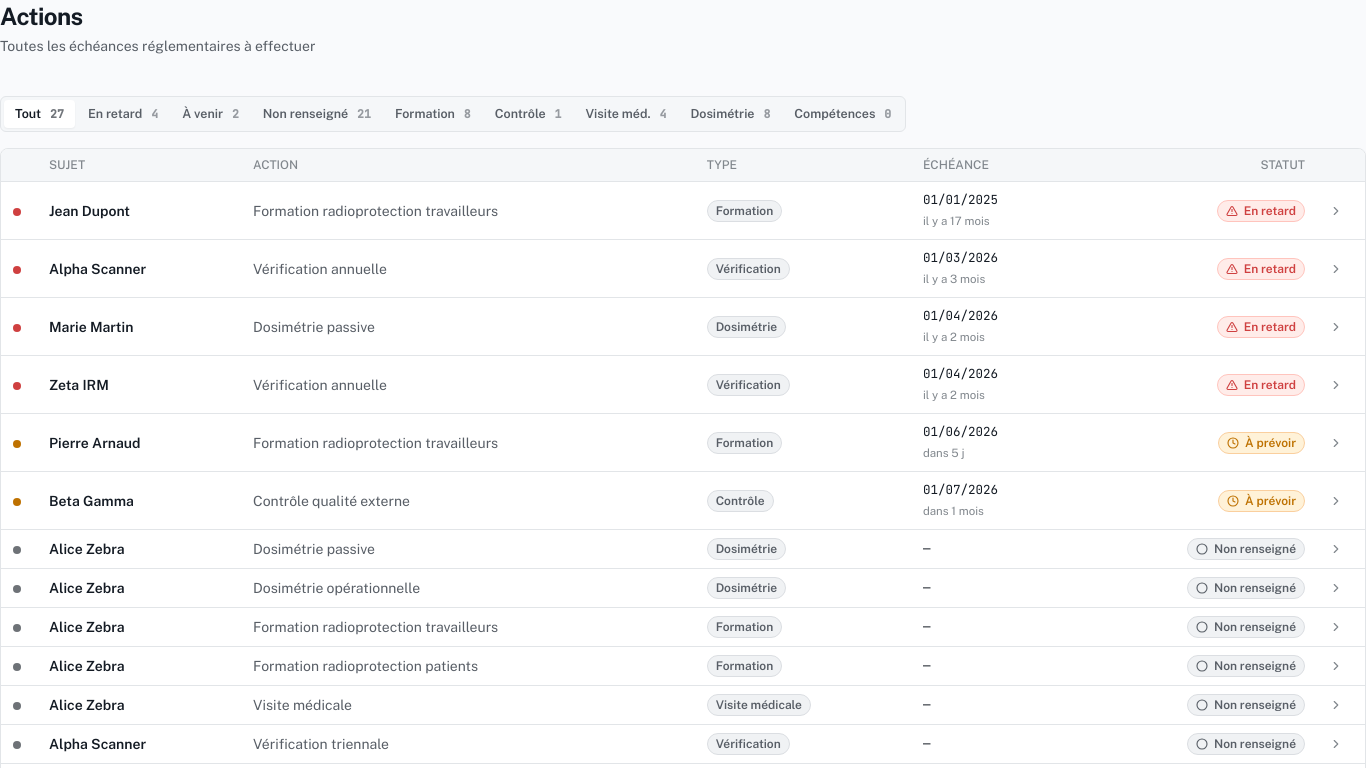
it: Actions — ordre de tri : En retard → À prévoir, deadline croissante dans chaque groupe › après filtrage "En retard", tri par deadline croissante
This screenshot has width=1366, height=768.
Expected: the button "Tout 27" is shown, [4,100,75,128]
# Cliquer sur le filtre "En retard"
Click the button "En retard 4". click: x=123, y=114
box: [77,100,169,128]
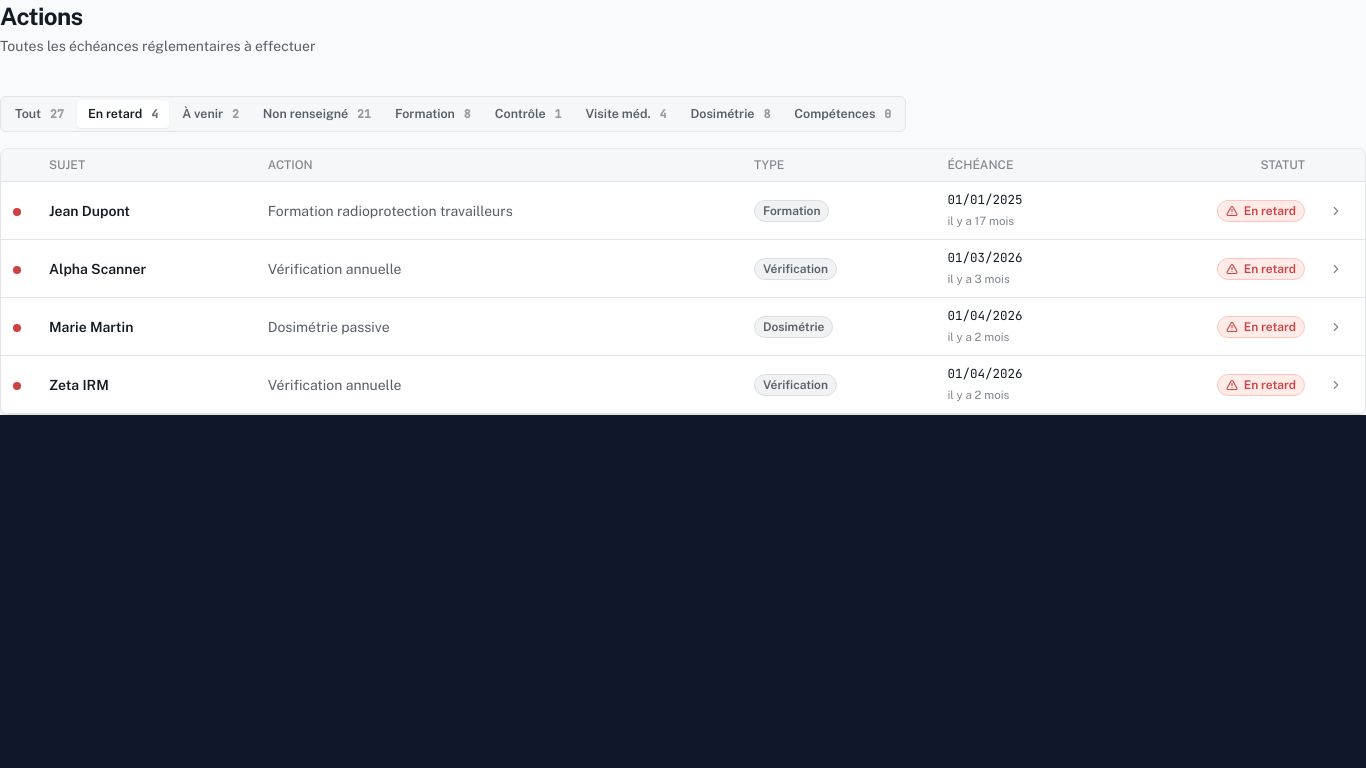
Expected: the row that starts with "Jean Dupont" is shown, [49,203,130,219]
Now the number of rows is 5, box [1,149,1365,182]; [1,182,1365,240]; [1,240,1365,298]; [1,298,1365,356]; [1,356,1365,414]
